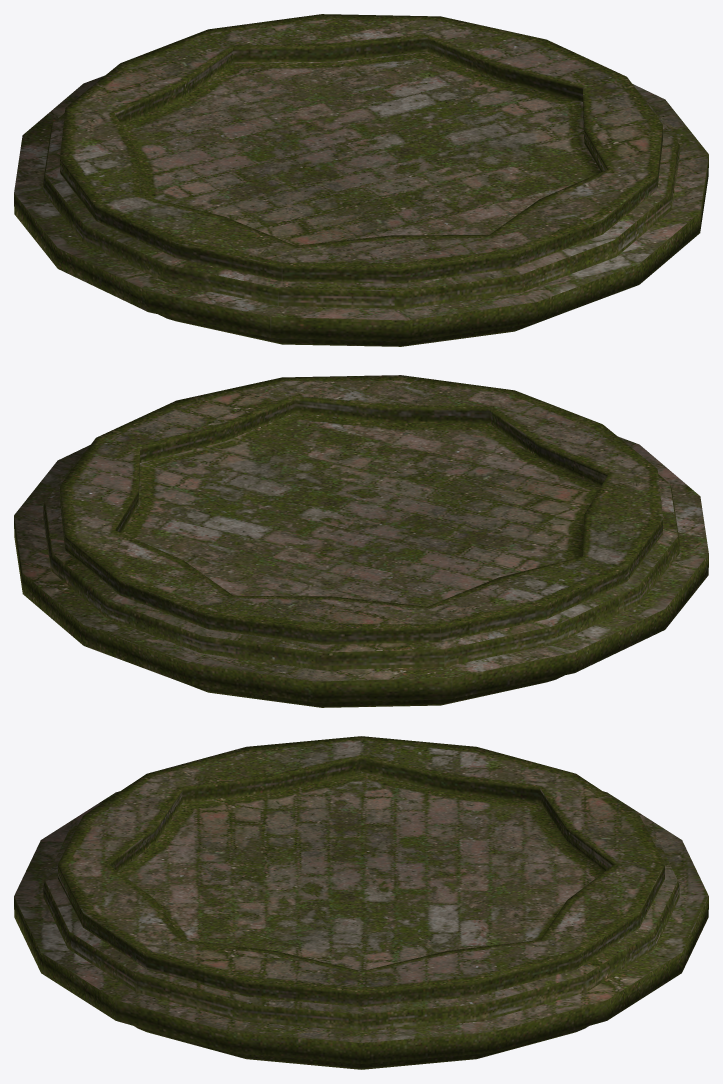
File: TurretPlatformWT.fbx
The picture shows the model from 3 angles, top to bottom: view 1: azimuth 30°, elevation 25°; view 2: azimuth 150°, elevation 25°; view 3: azimuth 270°, elevation 25°; orthographic projection.
Parts seen in each view (by area): view 1: TurretPlatform; view 2: TurretPlatform; view 3: TurretPlatform.
Boxes of the visible parts, bbox=[...] form: TurretPlatform: bbox=[14, 14, 708, 346]; TurretPlatform: bbox=[14, 375, 708, 707]; TurretPlatform: bbox=[14, 736, 708, 1069].
Size of the model in its own units: 985 by 123 by 985.
1 material, 1 textured.
